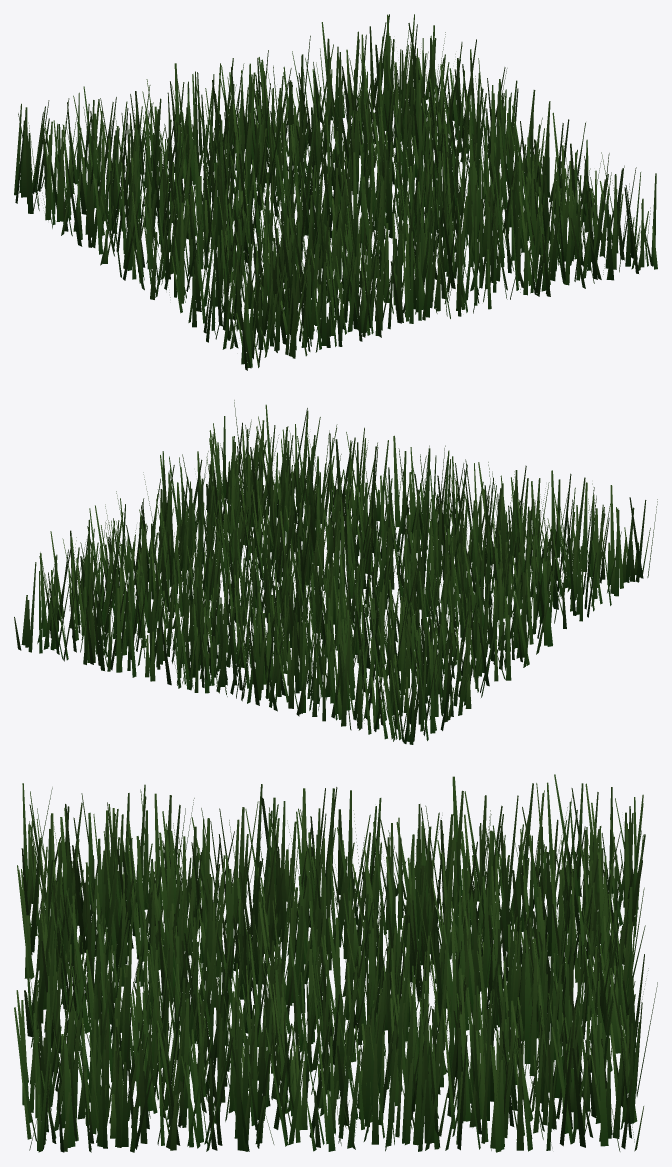
File: Turf_Sedge_v2.glb
The picture shows the model from 3 angles, top to bottom: view 1: azimuth 30°, elevation 25°; view 2: azimuth 150°, elevation 25°; view 3: azimuth 270°, elevation 25°; orthographic projection. The views are drawn at different scales.
Parts seen in each view (by area): view 1: Turf_Sedge_v2; view 2: Turf_Sedge_v2; view 3: Turf_Sedge_v2.
Part boxes in pixels (<box>): Turf_Sedge_v2: <box>14,14,657,370</box>; Turf_Sedge_v2: <box>14,400,657,744</box>; Turf_Sedge_v2: <box>14,774,657,1152</box>.
Size of the model in its own units: 1.28 by 0.25 by 1.28.
